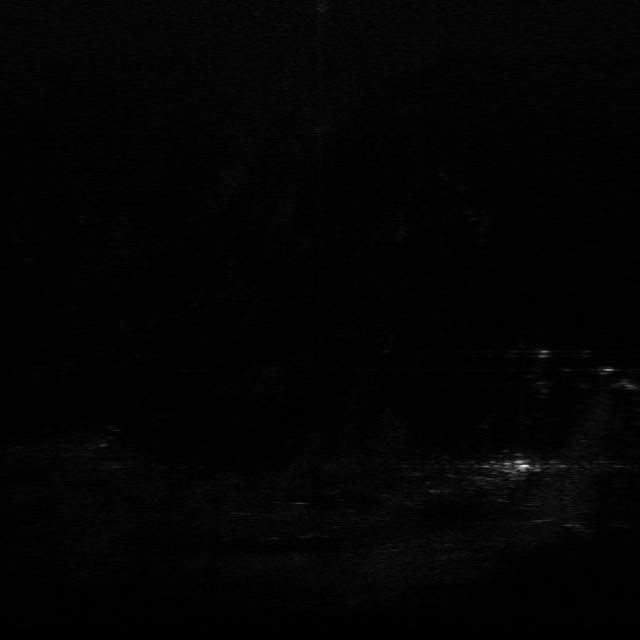rov: (498, 454, 533, 477)
